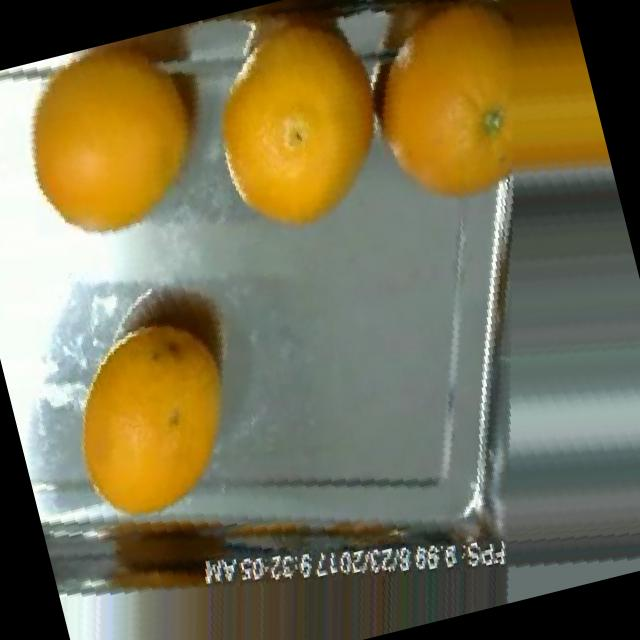Fruit: (18, 275, 280, 552)
